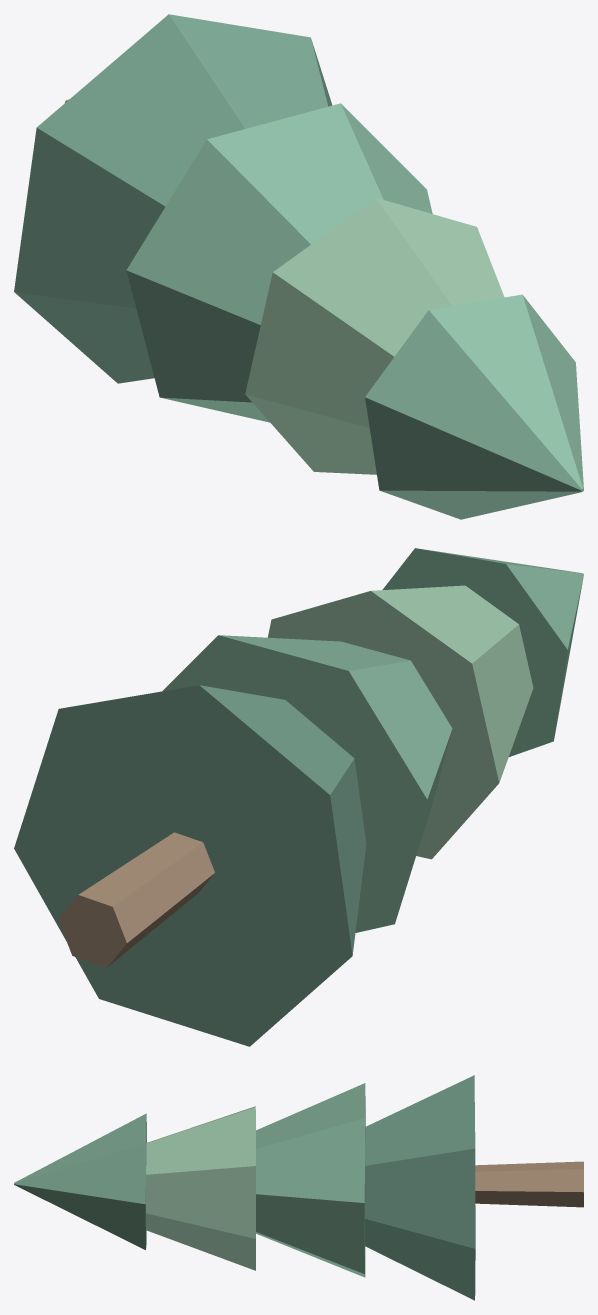
File: tree_pine_tall.glb
The picture shows the model from 3 angles, top to bottom: view 1: azimuth 30°, elevation 25°; view 2: azimuth 150°, elevation 25°; view 3: azimuth 270°, elevation 25°; orthographic projection. The views are drawn at different scales.
Parts seen in each view (by area): view 1: tree_pine_tall_pine_mid, tree_pine_tall_pine_dark, tree_pine_tall_pine_light; view 2: tree_pine_tall_pine_dark, tree_pine_tall_pine_mid, tree_pine_tall_pine_light, tree_pine_tall_bark_dark; view 3: tree_pine_tall_pine_mid, tree_pine_tall_pine_dark, tree_pine_tall_pine_light, tree_pine_tall_bark_dark.
Boxes of the visible parts, x1,y1,x2,y2 form: tree_pine_tall_pine_mid: (126, 103, 583, 519); tree_pine_tall_pine_dark: (14, 14, 332, 383); tree_pine_tall_pine_light: (245, 198, 504, 474); tree_pine_tall_pine_dark: (14, 685, 366, 1046); tree_pine_tall_pine_mid: (162, 548, 583, 932); tree_pine_tall_pine_light: (268, 585, 533, 859); tree_pine_tall_bark_dark: (58, 832, 214, 967); tree_pine_tall_pine_mid: (14, 1083, 365, 1277); tree_pine_tall_pine_dark: (365, 1075, 475, 1300); tree_pine_tall_pine_light: (146, 1106, 255, 1270); tree_pine_tall_bark_dark: (475, 1161, 583, 1207).
Size of the model in its own units: 3.35 by 3.33 by 8.42.
